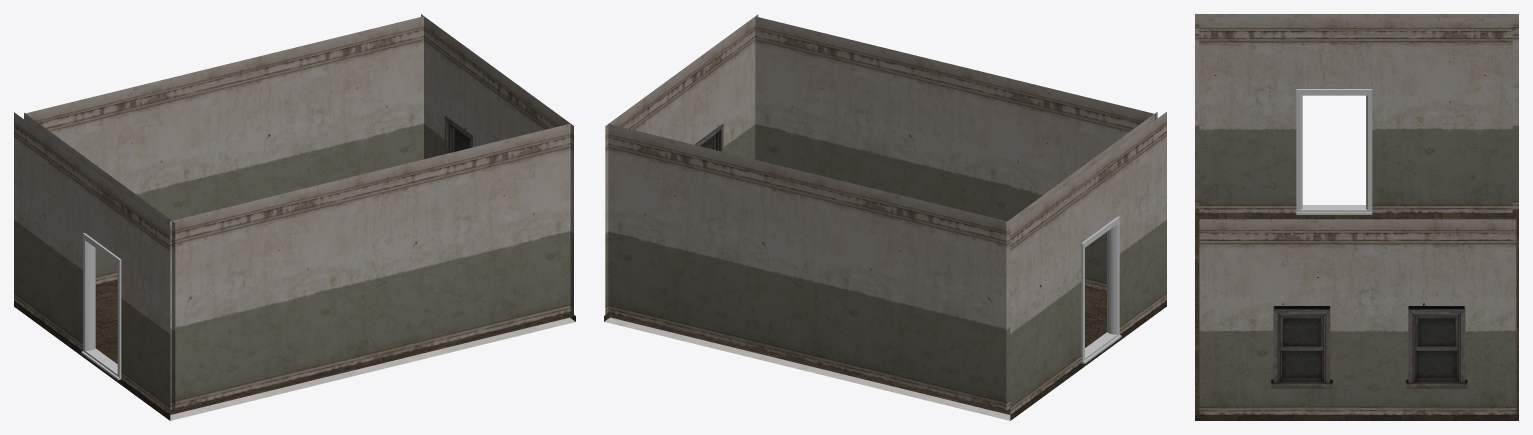
The model's file is room_windows_6m_x_9m.fbx.
3 views of the same model, side by side, from view 1: azimuth 30°, elevation 25°; view 2: azimuth 150°, elevation 25°; view 3: azimuth 270°, elevation 25° (orthographic). The views are drawn at different scales.
Parts seen in each view (by area): view 1: room_windows_6m_x_9m; view 2: room_windows_6m_x_9m; view 3: room_windows_6m_x_9m.
Part boxes in pixels (x1=…): room_windows_6m_x_9m: x1=14, y1=14, x2=575, y2=420; room_windows_6m_x_9m: x1=604, y1=14, x2=1166, y2=420; room_windows_6m_x_9m: x1=1195, y1=14, x2=1518, y2=420.
Bounding box in the file's own units: 930 × 412 × 600.
